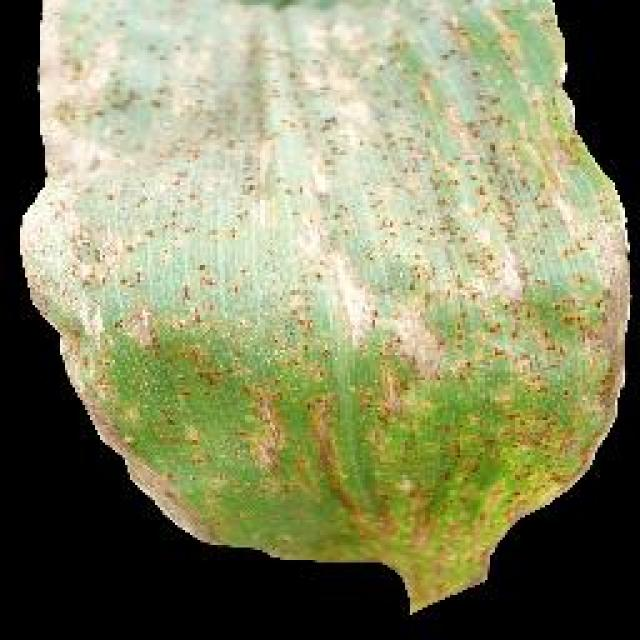Corn Common Rust: (97, 81, 485, 472)
